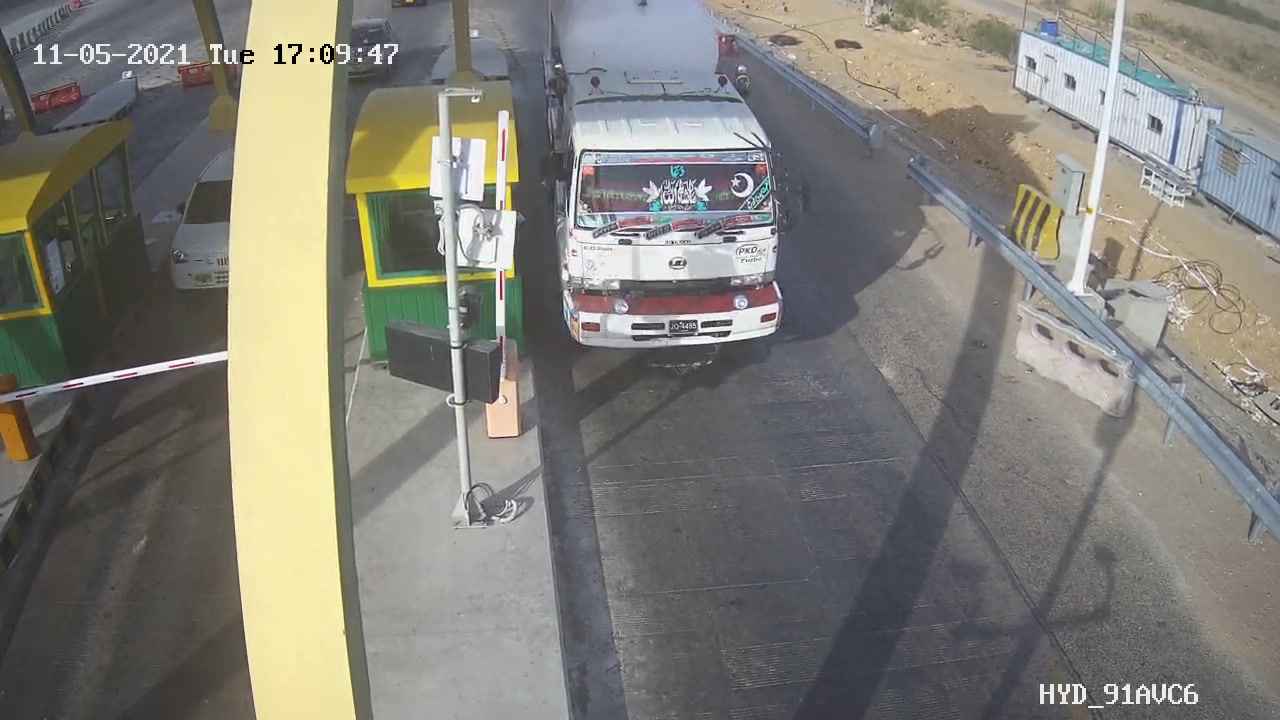F6: (527, 1, 826, 399)
